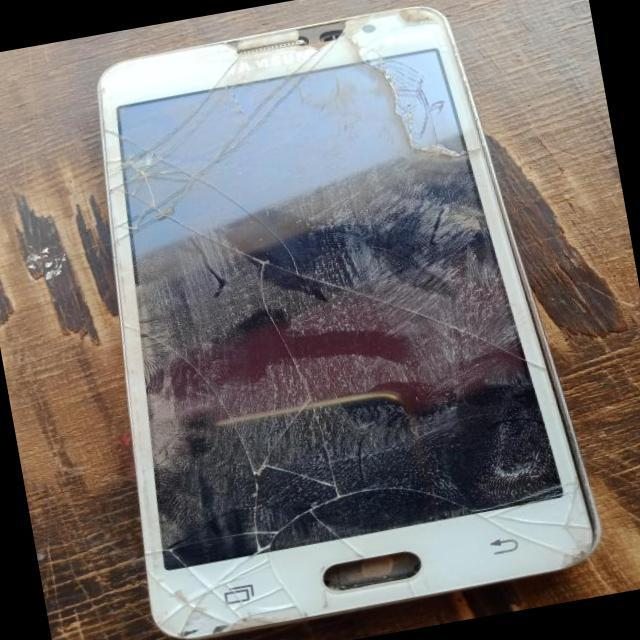Crack: (75, 210, 625, 636), (310, 2, 521, 260), (75, 34, 300, 238)
